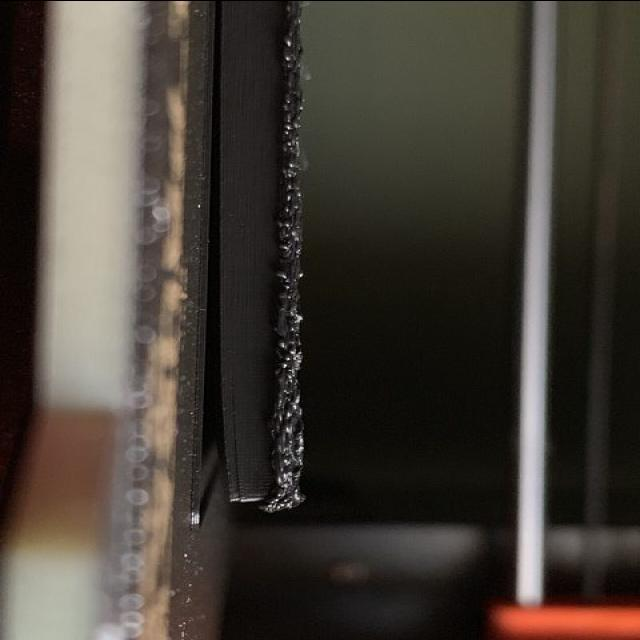Warping: (204, 378, 248, 502)
